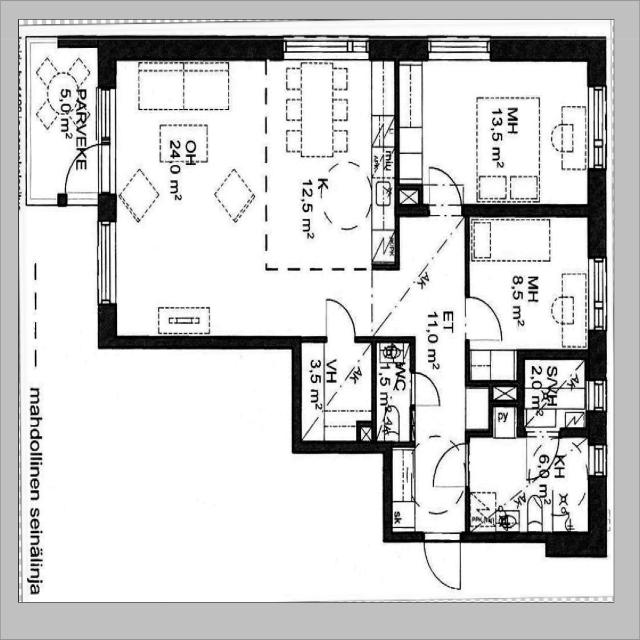door: (61, 142, 110, 203), (420, 530, 465, 593), (463, 292, 505, 348), (422, 164, 466, 214), (430, 444, 470, 496), (521, 432, 562, 479), (321, 297, 360, 344), (411, 370, 442, 411)
window: (583, 80, 612, 177), (583, 249, 611, 340), (94, 216, 118, 313), (279, 36, 364, 62), (423, 34, 495, 63), (95, 82, 118, 145), (583, 374, 609, 414), (587, 438, 610, 478)
zone: (111, 58, 268, 346), (402, 52, 596, 209), (262, 55, 392, 272), (467, 213, 591, 363), (466, 434, 592, 535), (299, 338, 373, 446), (522, 354, 588, 432), (374, 338, 413, 443), (488, 382, 521, 433)
